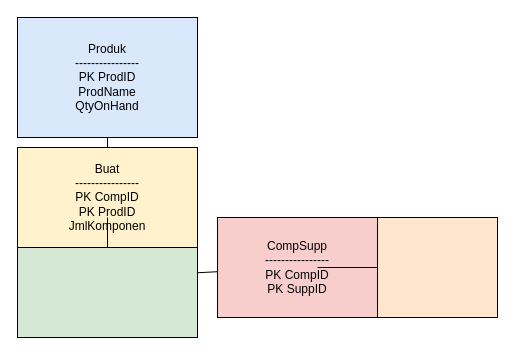
This 515x355 diagram has some shape labels left out. Here are the shapes that lost their labels. From the top down, the centre of each, then its label:
At point (107, 277): "Komponen ---------------- PK CompID CompName Deskripsi".
At point (407, 267): "Pemasok ---------------- PK SuppID SuppName".
